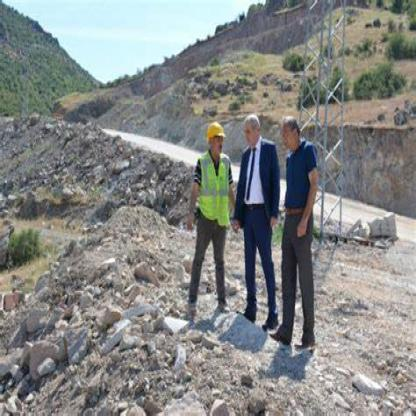person: (280, 87, 322, 357), (235, 102, 278, 338), (189, 114, 229, 314)
